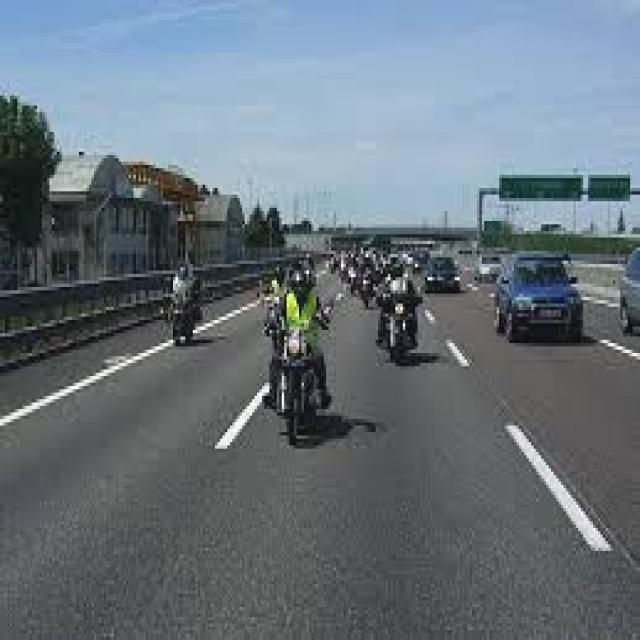MOTORCYCLE: (278, 295, 318, 432), (375, 294, 418, 364), (170, 280, 196, 346)
